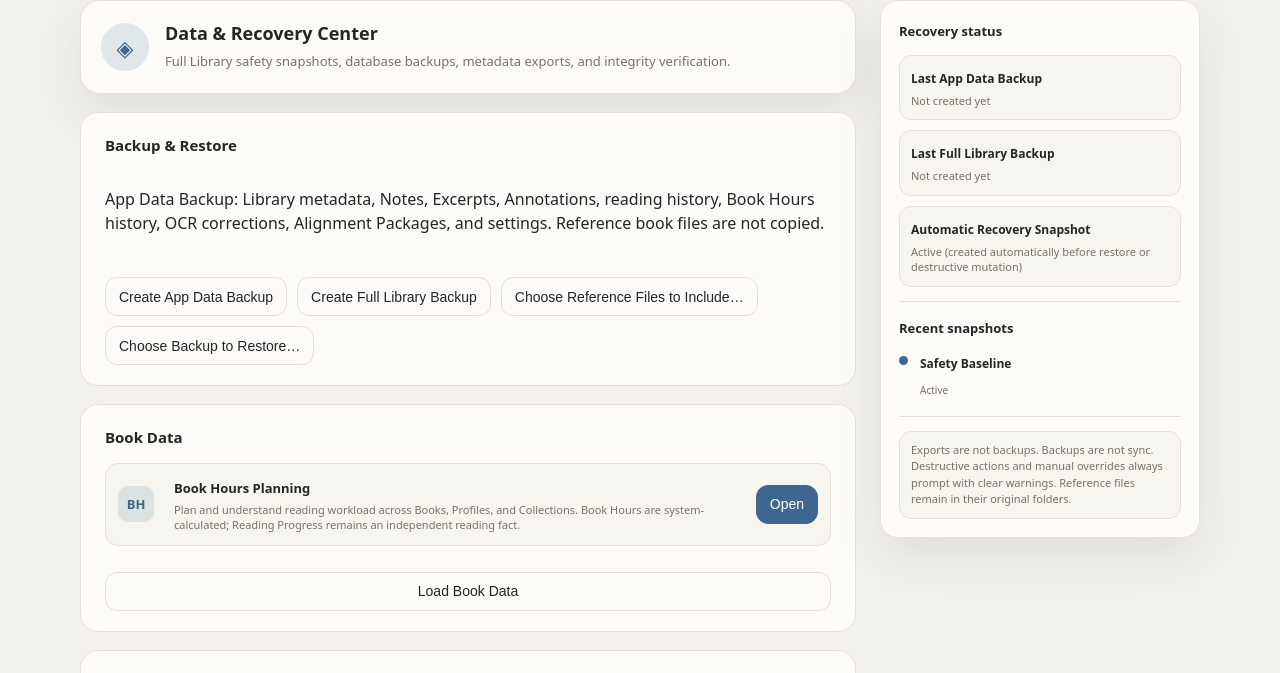
Test: DataRecovery › previewing an incomplete archive disables Restore and shows what's missing
The width and height of the screenshot is (1280, 673).
Step 1. Click the button "Choose Backup to Restore…" → (210, 346), box [105, 326, 314, 365]
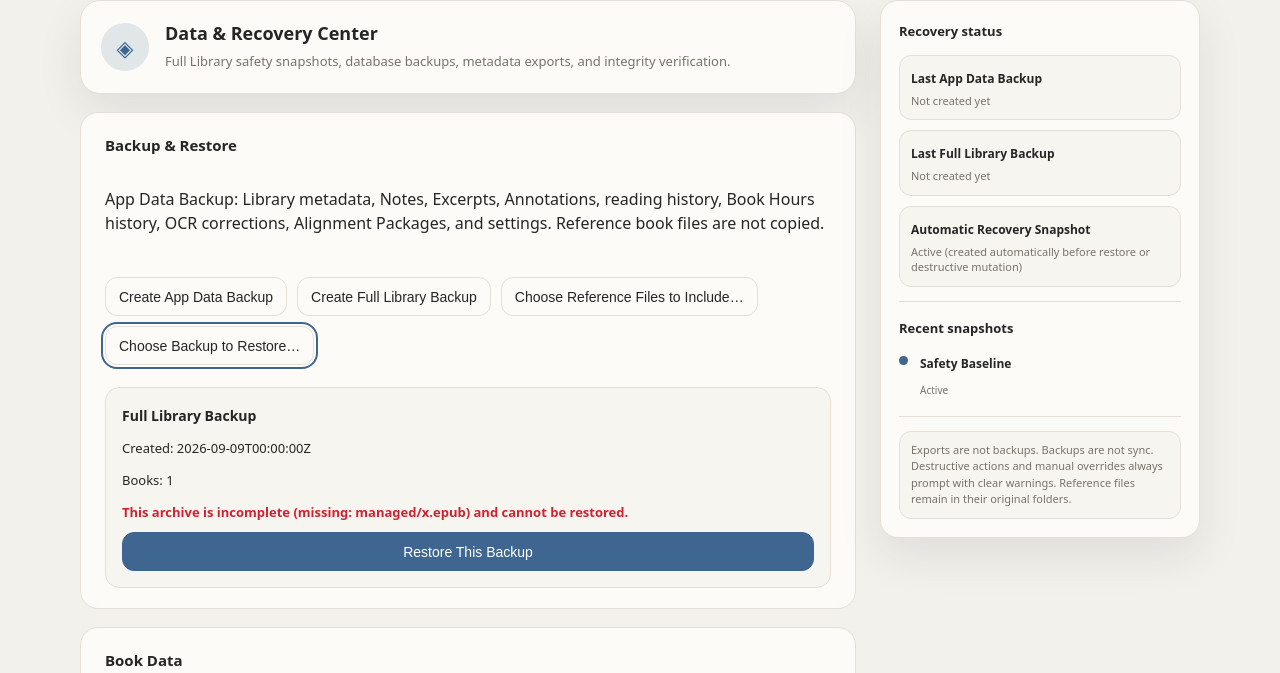
Result: the text "This archive is incomplete (missing: managed/x.epub) and cannot be restored." is shown at [122, 503, 628, 521]
Result: the button "Restore This Backup" is disabled at [122, 532, 814, 571]
